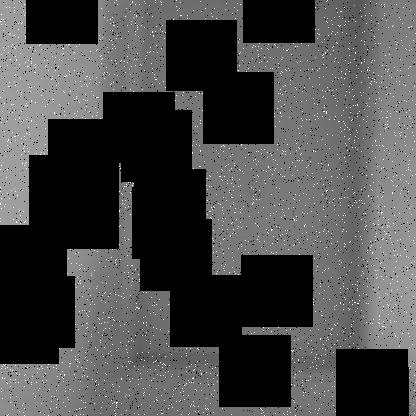Porte: (110, 1, 377, 383)
